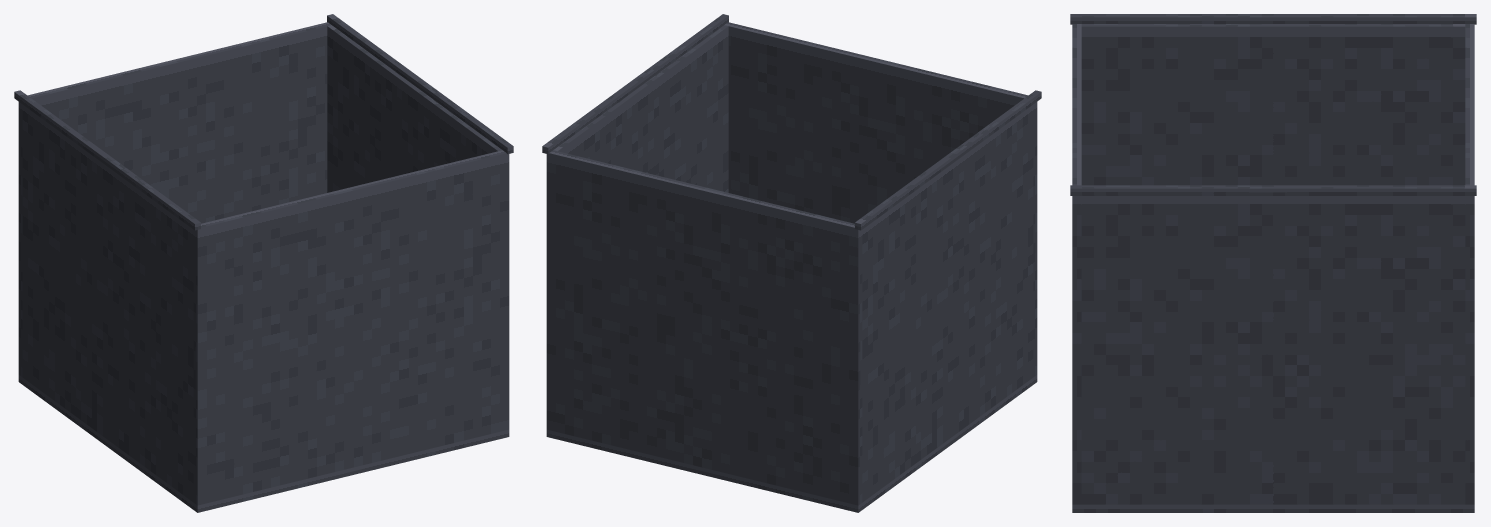
File: f_vitrified_box.glb
The picture shows the model from 3 angles, left to right: view 1: azimuth 30°, elevation 25°; view 2: azimuth 150°, elevation 25°; view 3: azimuth 270°, elevation 25°; orthographic projection. The views are drawn at different scales.
Parts seen in each view (by area): view 1: block_razor-edged-black-glass-box-end-1, block_razor-edged-black-glass-box-side--1, block_razor-edged-black-glass-box-end--1, block_razor-edged-black-glass-box-side-1, block_thin-obsidean-edge (×2), block_razor-edged-black-glass-box-base; view 2: block_razor-edged-black-glass-box-end--1, block_razor-edged-black-glass-box-side--1, block_razor-edged-black-glass-box-end-1, block_razor-edged-black-glass-box-side-1, block_thin-obsidean-edge (×2), block_razor-edged-black-glass-box-base; view 3: block_razor-edged-black-glass-box-side-1, block_razor-edged-black-glass-box-side--1, block_thin-obsidean-edge (×2), block_razor-edged-black-glass-box-end--1, block_razor-edged-black-glass-box-end-1, block_razor-edged-black-glass-box-base.
Boxes of the visible parts, x1,y1,x2,y2 form: block_razor-edged-black-glass-box-end-1: (193,150,509,505); block_razor-edged-black-glass-box-side--1: (22,105,193,502); block_razor-edged-black-glass-box-end--1: (18,22,331,377); block_razor-edged-black-glass-box-side-1: (327,25,502,192); block_thin-obsidean-edge (×2): (14,14,513,230); block_razor-edged-black-glass-box-base: (18,375,509,512); block_razor-edged-black-glass-box-end--1: (546,150,862,505); block_razor-edged-black-glass-box-side--1: (862,105,1033,502); block_razor-edged-black-glass-box-end-1: (724,22,1037,377); block_razor-edged-black-glass-box-side-1: (553,25,728,192); block_thin-obsidean-edge (×2): (542,14,1041,230); block_razor-edged-black-glass-box-base: (546,375,1037,512); block_razor-edged-black-glass-box-side-1: (1081,196,1465,504); block_razor-edged-black-glass-box-side--1: (1081,24,1465,185); block_thin-obsidean-edge (×2): (1070,14,1476,195); block_razor-edged-black-glass-box-end--1: (1465,24,1474,504); block_razor-edged-black-glass-box-end-1: (1072,24,1081,504); block_razor-edged-black-glass-box-base: (1072,504,1474,512).
Size of the model in its own units: 0.724 by 0.63 by 0.711.
Materials: 2 (2 with a texture image).
